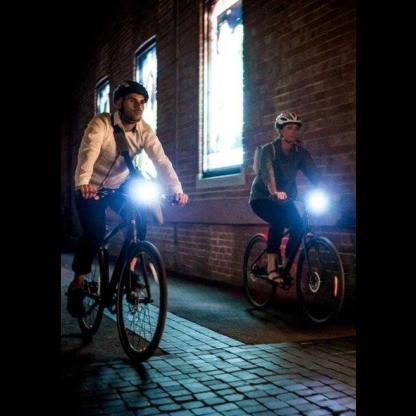Bicycle: (60, 181, 199, 367), (220, 193, 354, 330)
